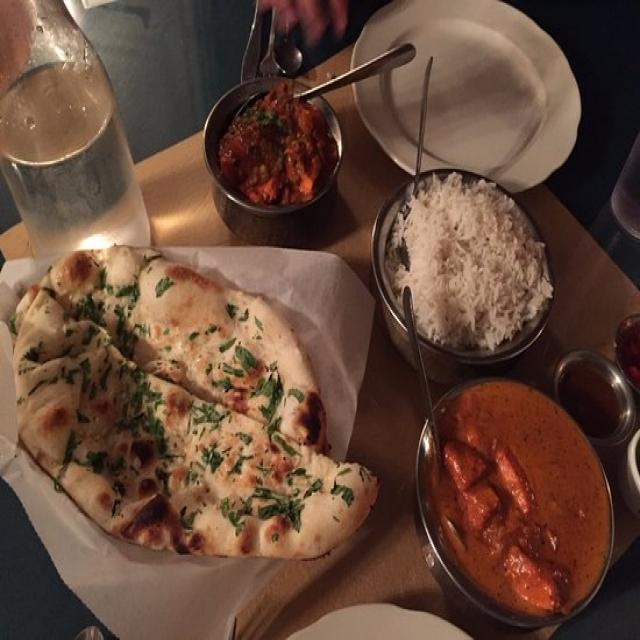ShahiPaneer: (415, 389, 627, 619)
rice: (383, 171, 562, 364)
